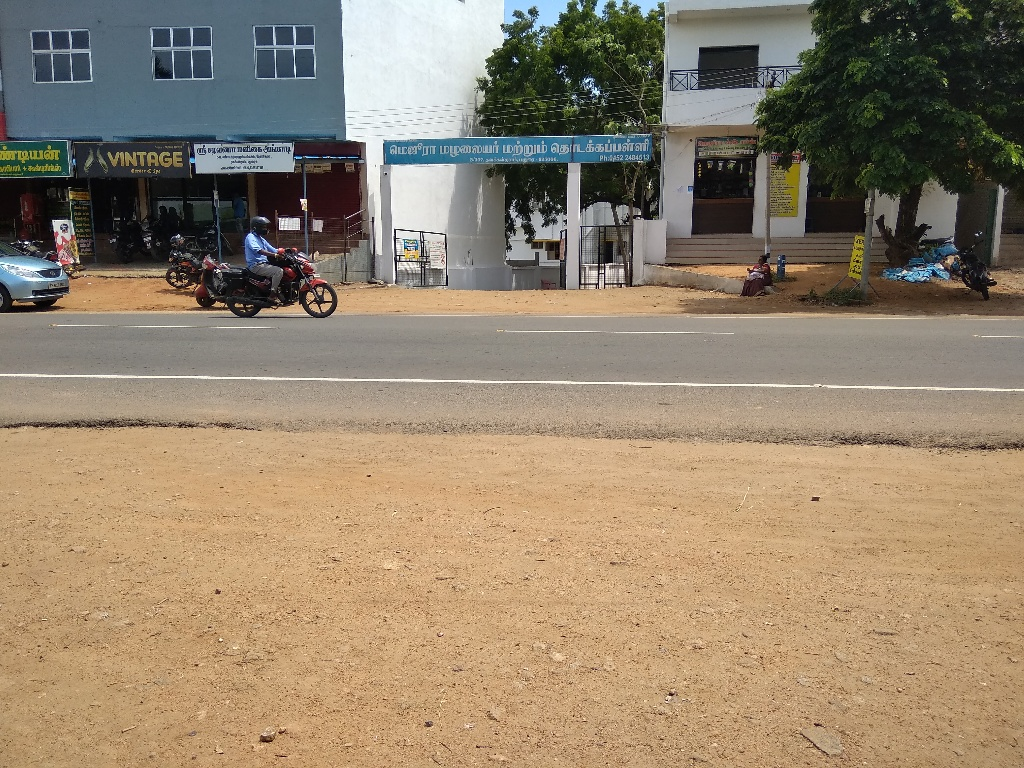biker: (202, 193, 353, 329)
helmet: (244, 208, 277, 245)
